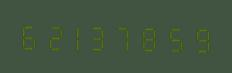eight: (137, 20, 160, 53)
five: (161, 20, 184, 54)
nine: (185, 21, 208, 54)
one: (65, 19, 88, 52)
seven: (113, 19, 136, 53)
six: (17, 18, 40, 51)
three: (89, 19, 112, 52)
two: (41, 18, 64, 52)
